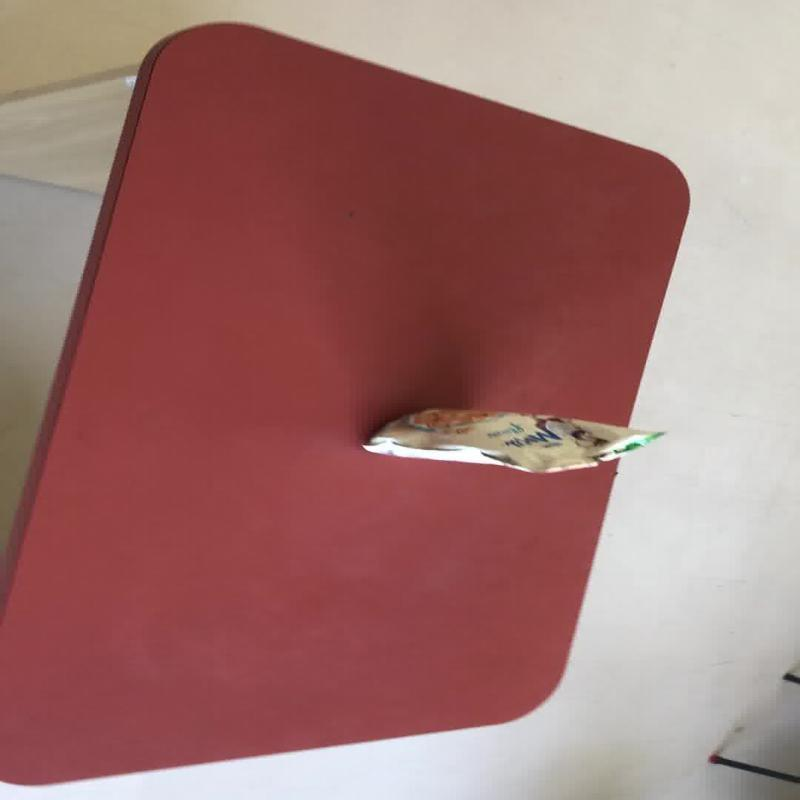corn flakes: (362, 407, 665, 474)
